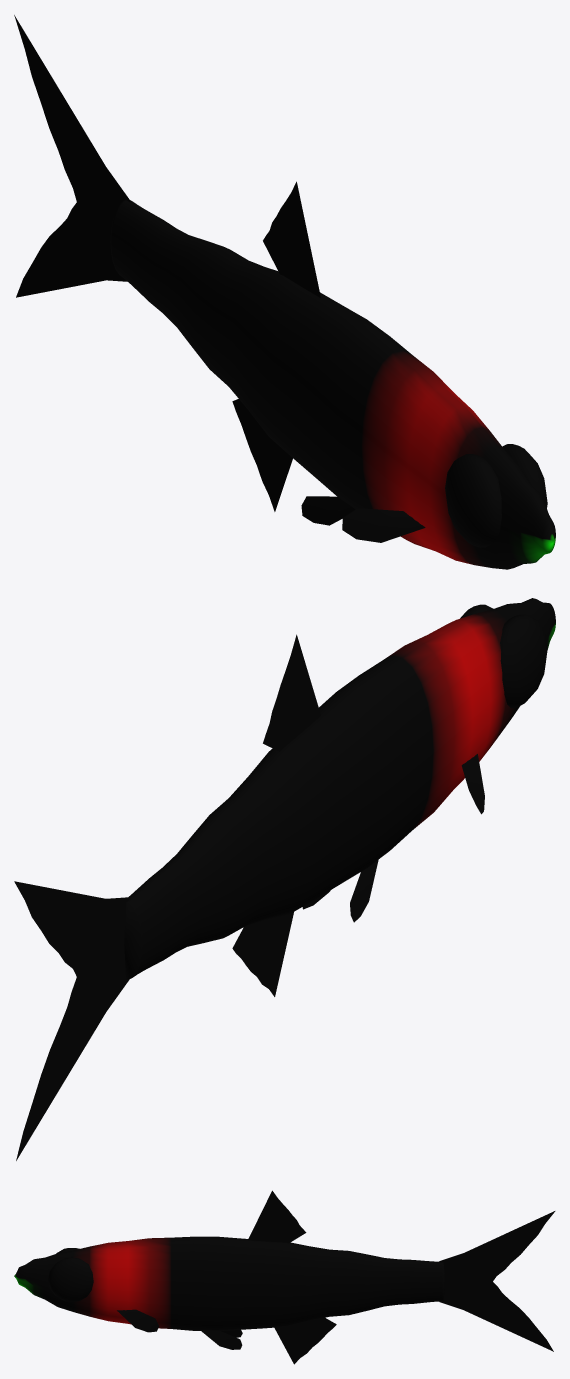
Rendered from chili-rasbora.glb.
The picture shows the model from 3 angles, top to bottom: view 1: azimuth 30°, elevation 25°; view 2: azimuth 150°, elevation 25°; view 3: azimuth 270°, elevation 25°; orthographic projection. The views are drawn at different scales.
Visible parts, largest first — view 1: chili_body, chili_caudal, chili_eyeL, chili_dorsal, chili_anal, chili_pectoralL, chili_pelvicL, chili_eyeR; view 2: chili_body, chili_caudal, chili_eyeL, chili_dorsal, chili_anal, chili_pelvicL, chili_pectoralL; view 3: chili_body, chili_caudal, chili_dorsal, chili_eyeR, chili_anal, chili_pectoralR, chili_pelvicR.
Part boxes in pixels (x1,y1,x2,y2): chili_body: (110,200,555,569); chili_caudal: (14,15,130,297); chili_eyeL: (445,454,501,547); chili_dorsal: (263,181,320,297); chili_anal: (232,399,292,511); chili_pectoralL: (342,508,425,542); chili_pelvicL: (301,496,355,525); chili_eyeR: (502,444,547,507); chili_body: (124,598,555,979); chili_caudal: (14,881,130,1160); chili_eyeL: (500,614,547,708); chili_dorsal: (263,634,320,751); chili_anal: (232,912,293,996); chili_pelvicL: (350,860,378,922); chili_pectoralL: (461,754,484,814); chili_body: (14,1236,445,1330); chili_caudal: (439,1211,555,1351); chili_dorsal: (248,1190,306,1243); chili_eyeR: (48,1257,93,1301); chili_anal: (274,1317,336,1364); chili_pectoralR: (117,1309,158,1332); chili_pelvicR: (200,1330,242,1349).
Bounding box in the file's own units: 0.1877 × 0.4478 × 1.26.
